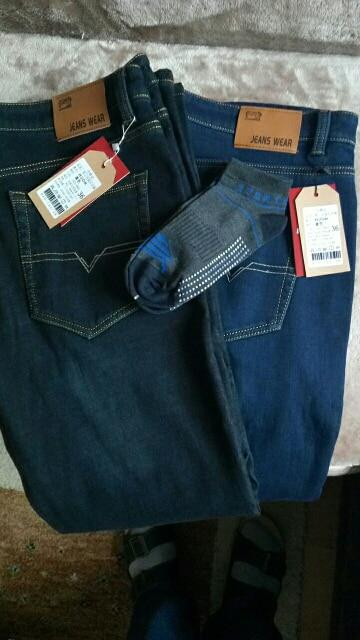jeans: (25, 71, 360, 538)
